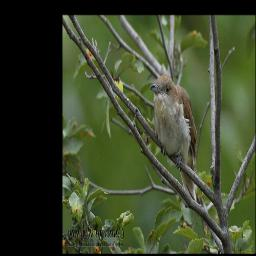Cuckoo: (150, 73, 198, 202)
